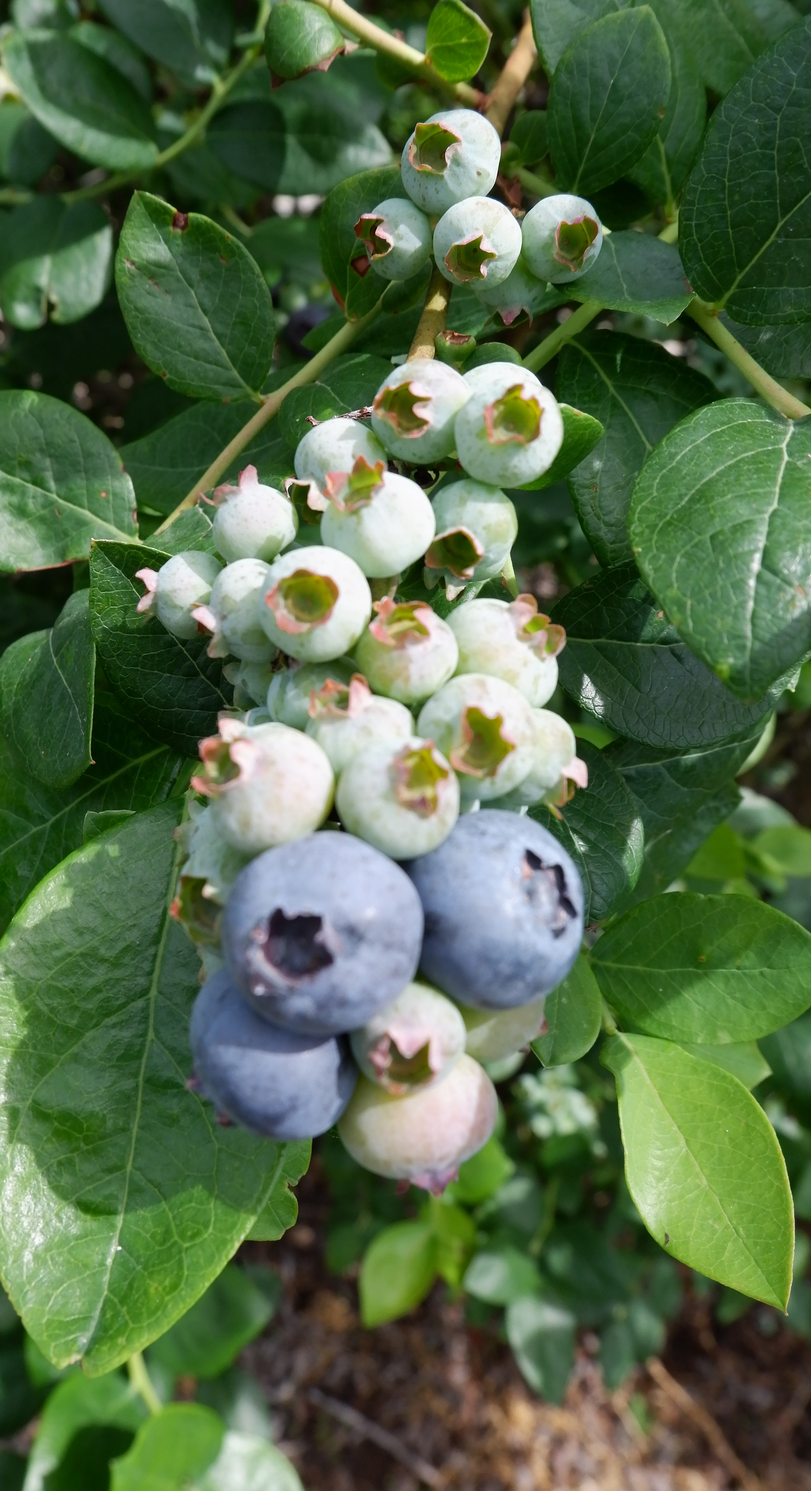Immature: (341, 1060, 494, 1188), (196, 711, 329, 850), (339, 739, 457, 858), (417, 677, 531, 800), (348, 984, 464, 1089), (450, 598, 563, 702), (262, 549, 367, 660), (322, 473, 433, 573), (456, 381, 559, 484), (356, 601, 456, 701), (403, 111, 498, 214), (306, 685, 410, 774), (374, 360, 465, 461), (506, 707, 588, 818), (428, 477, 515, 576), (298, 418, 385, 509), (211, 466, 293, 560), (437, 199, 521, 286), (209, 562, 278, 659), (142, 552, 218, 639), (524, 196, 601, 280), (354, 198, 432, 279), (177, 806, 253, 888), (270, 660, 354, 728), (464, 999, 543, 1071), (482, 258, 548, 322), (176, 880, 226, 954), (464, 362, 542, 389), (225, 662, 273, 705), (217, 706, 275, 724), (200, 948, 222, 978)
Mature: (220, 835, 421, 1035), (407, 812, 577, 1005), (190, 970, 351, 1138)
